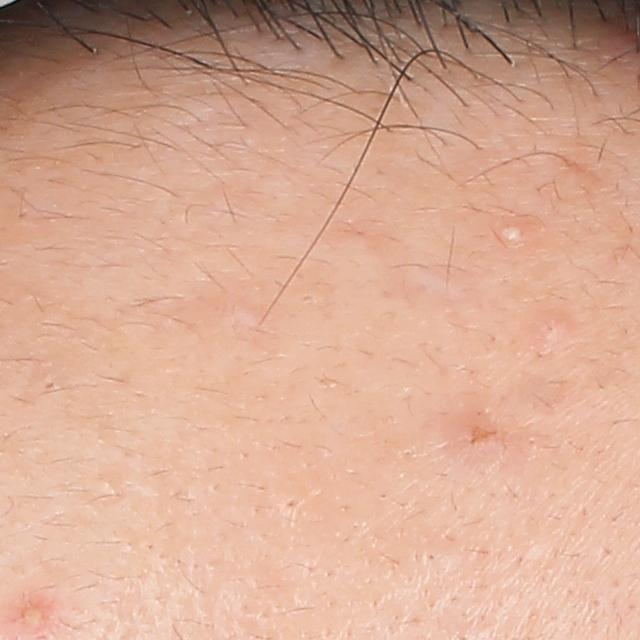pustule: (496, 217, 537, 254), (13, 594, 50, 633)
